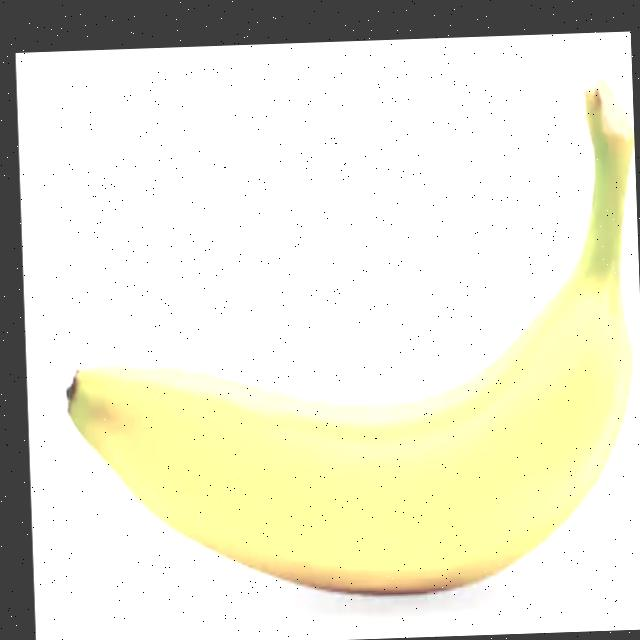Ripe: (34, 62, 640, 611)
